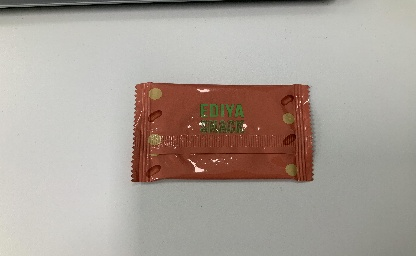pota: (129, 80, 315, 185)
